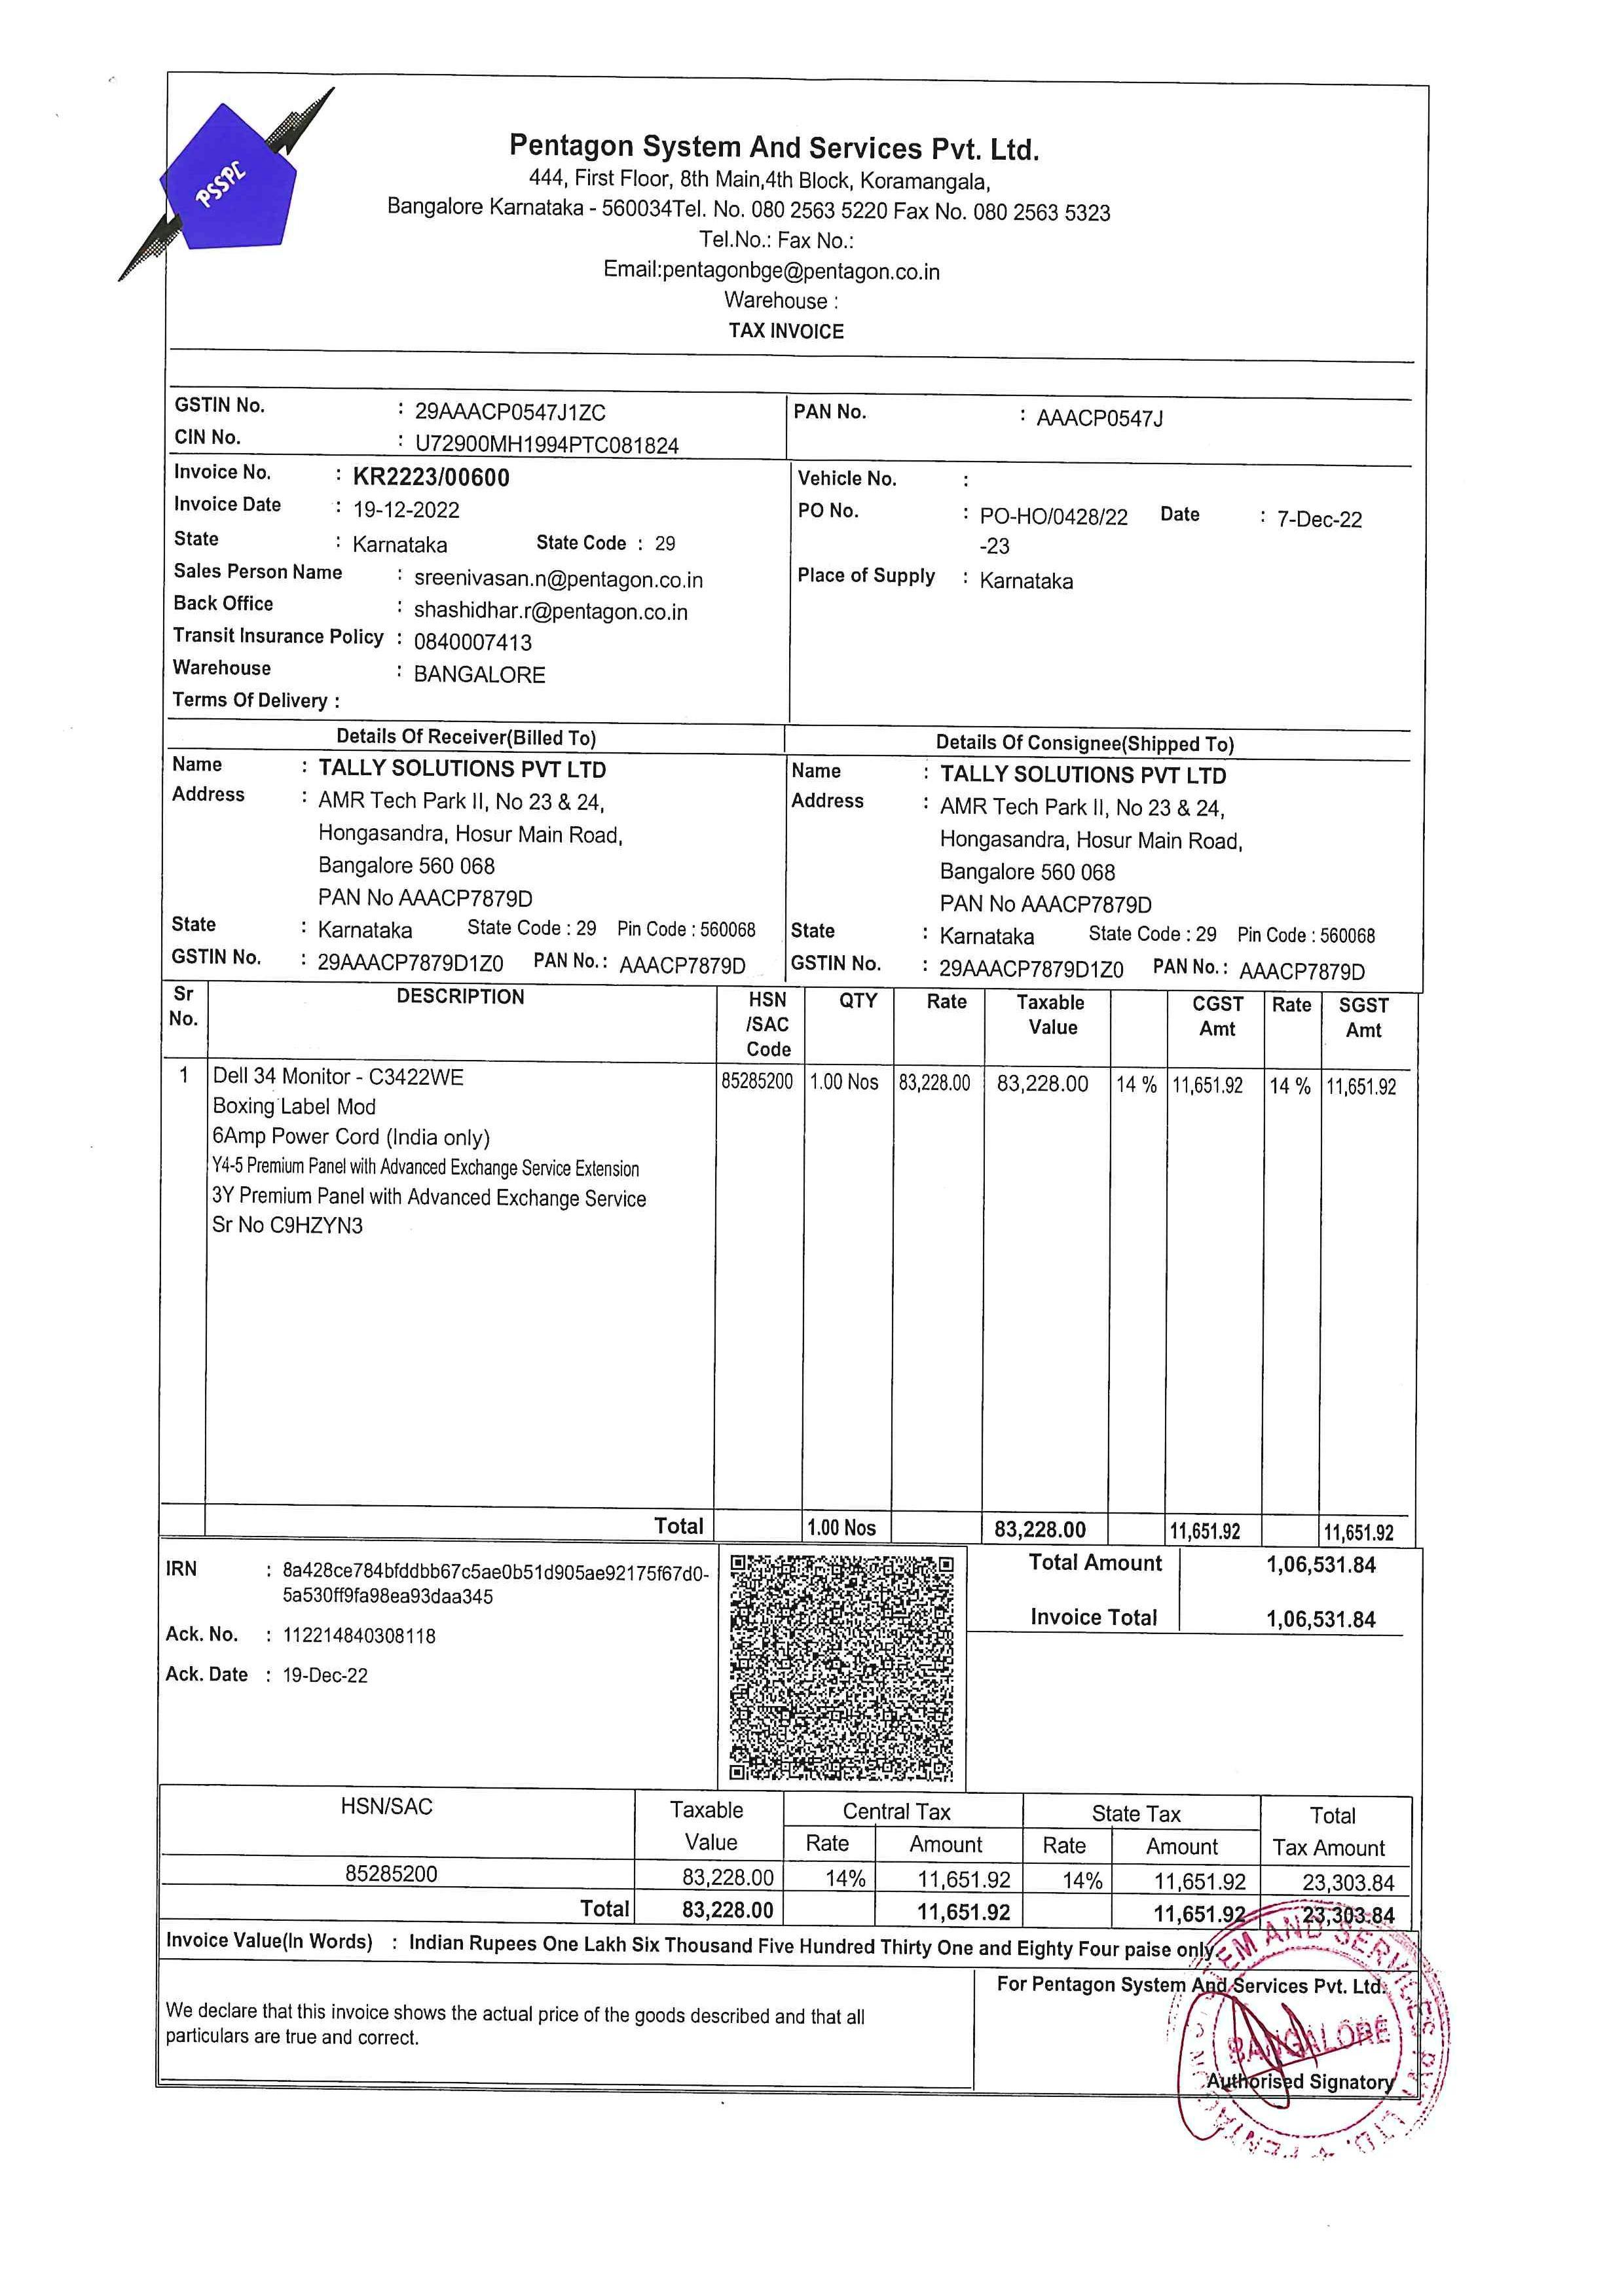InvoiceDate: (352, 495, 464, 525)
InvoiceNumber: (350, 462, 518, 492)
TotalAmount: (1260, 1546, 1387, 1581)
